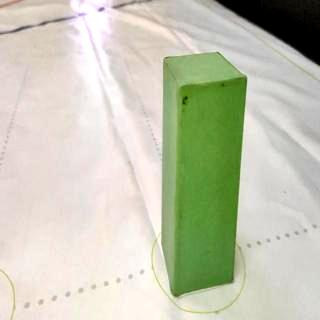greenbox: (162, 50, 248, 299)
